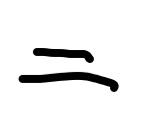eqv: (19, 48, 119, 92)
